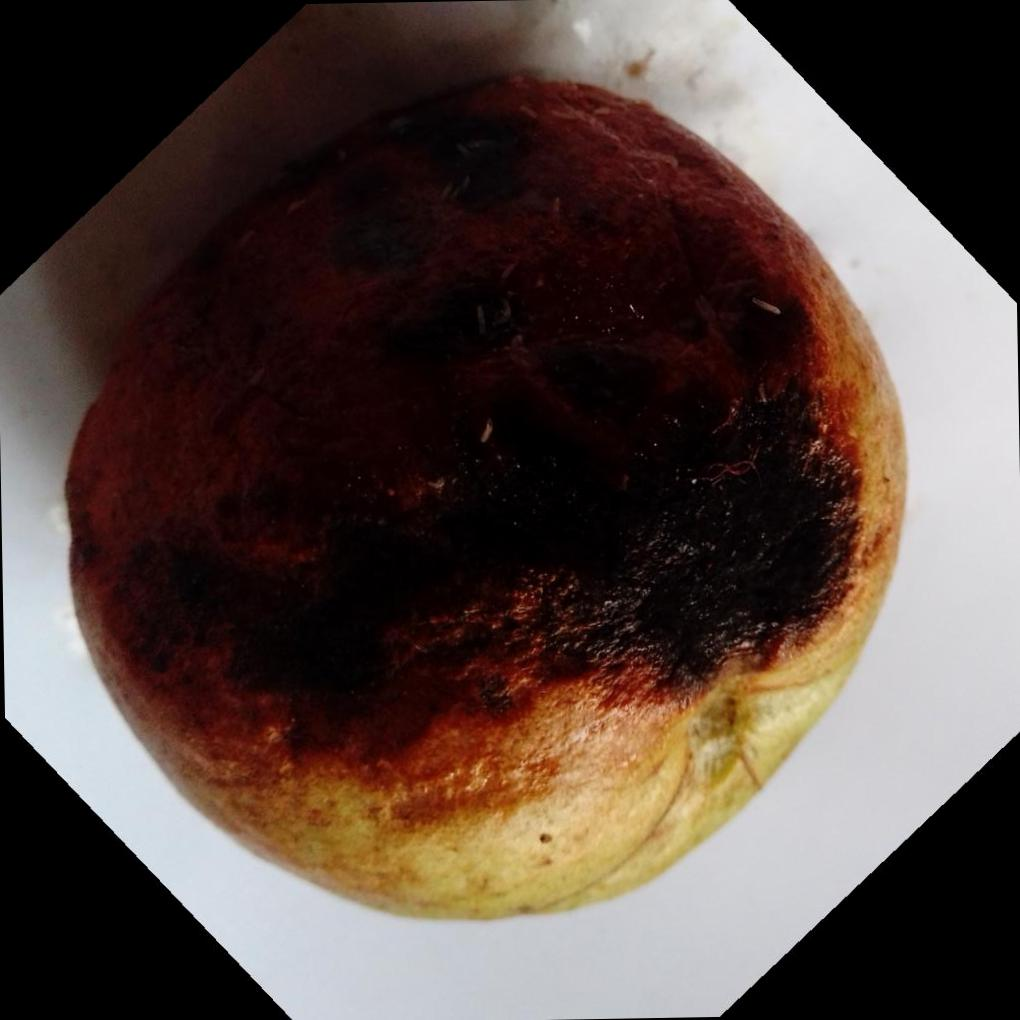FreshOrange: (57, 70, 906, 923)
